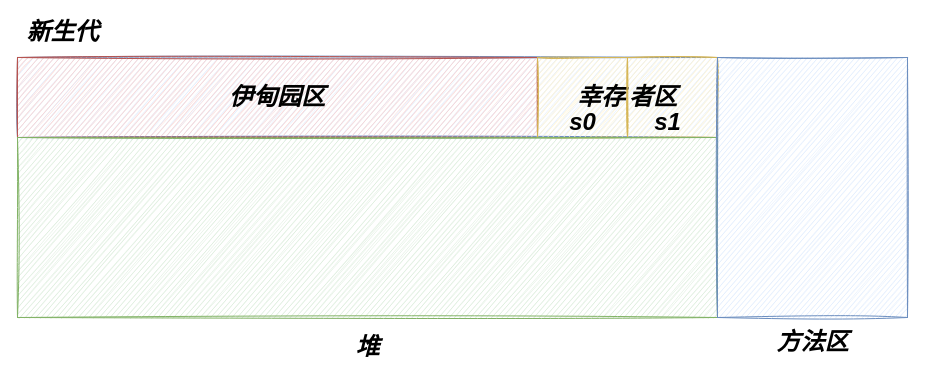
Image size: 925x379. Some labels were removed from this diagram. Here are the shapes that lost their labels. From the top down, the centre of each, then its label:
point (812, 187): 永久代/ 元空间
point (367, 227): 老年代
